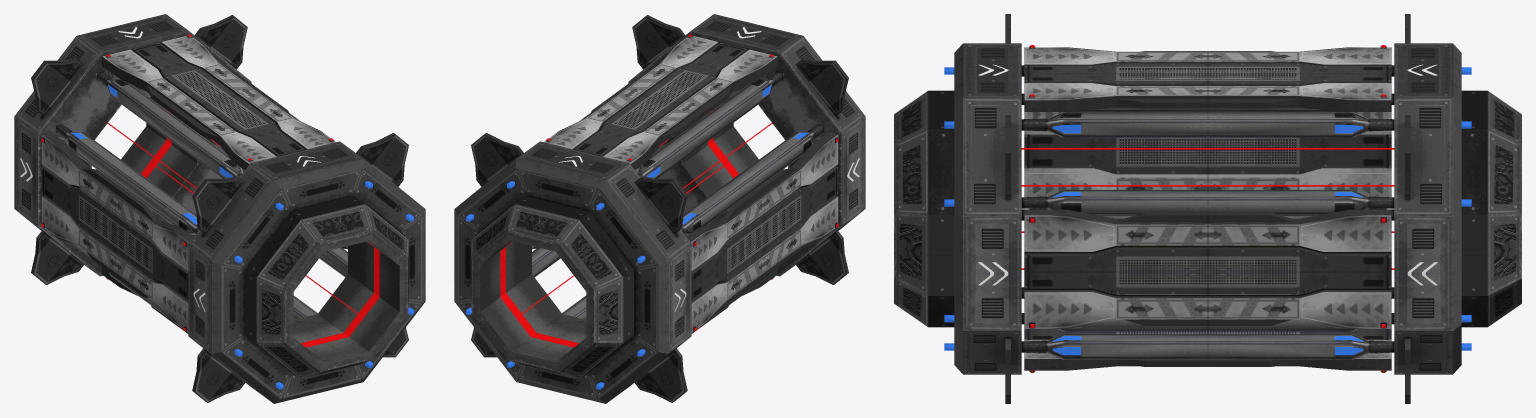
The model's file is 9b6abdfb-a082-4e20-8d5f-146b228dd1a9.glb.
3 views of the same model, side by side, from view 1: azimuth 30°, elevation 25°; view 2: azimuth 150°, elevation 25°; view 3: azimuth 270°, elevation 25° (orthographic). The views are drawn at different scales.
Parts seen in each view (by area): view 1: Cilindro.006; view 2: Cilindro.006; view 3: Cilindro.006.
Part boxes in pixels (x1=…): Cilindro.006: x1=14, y1=14, x2=425, y2=403; Cilindro.006: x1=454, y1=14, x2=865, y2=403; Cilindro.006: x1=894, y1=14, x2=1521, y2=403.
Size of what is drawn, in the model's own units: 5.97 by 5.97 by 12.22.
Materials: 2 (2 with a texture image).
